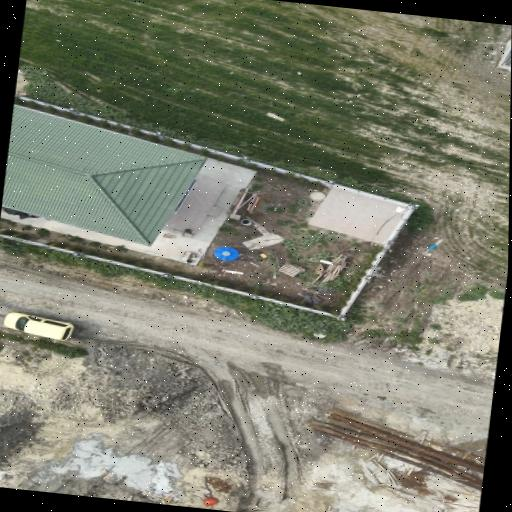car: (4, 312, 74, 340)
